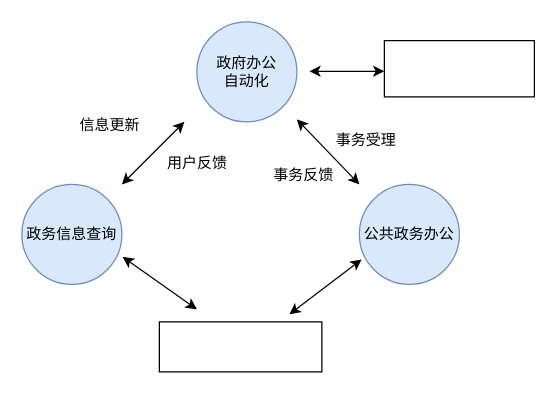
Image size: 556x394. Some labels were removed from this diagram. Each missing label, with the centre of its shape:
"政府工作人员" belongs at (x=458, y=68).
"社会公众企业" belongs at (x=240, y=346).
